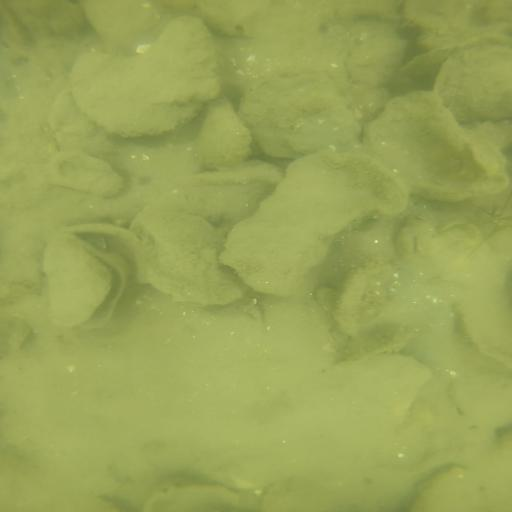Oyster-Closed: (227, 155, 383, 298), (71, 16, 219, 136), (366, 83, 512, 203), (133, 211, 246, 306), (237, 70, 354, 156), (436, 41, 512, 120), (53, 91, 126, 157), (43, 148, 127, 199), (343, 263, 400, 335), (349, 27, 406, 87), (412, 467, 486, 512), (330, 325, 413, 365), (85, 2, 156, 48), (200, 103, 251, 167), (260, 482, 317, 512)
Oyster-Open: (39, 231, 126, 331)
